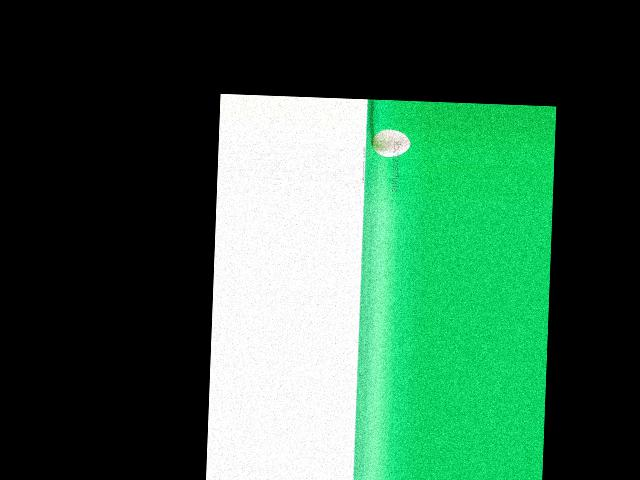egg: (370, 128, 410, 157)
